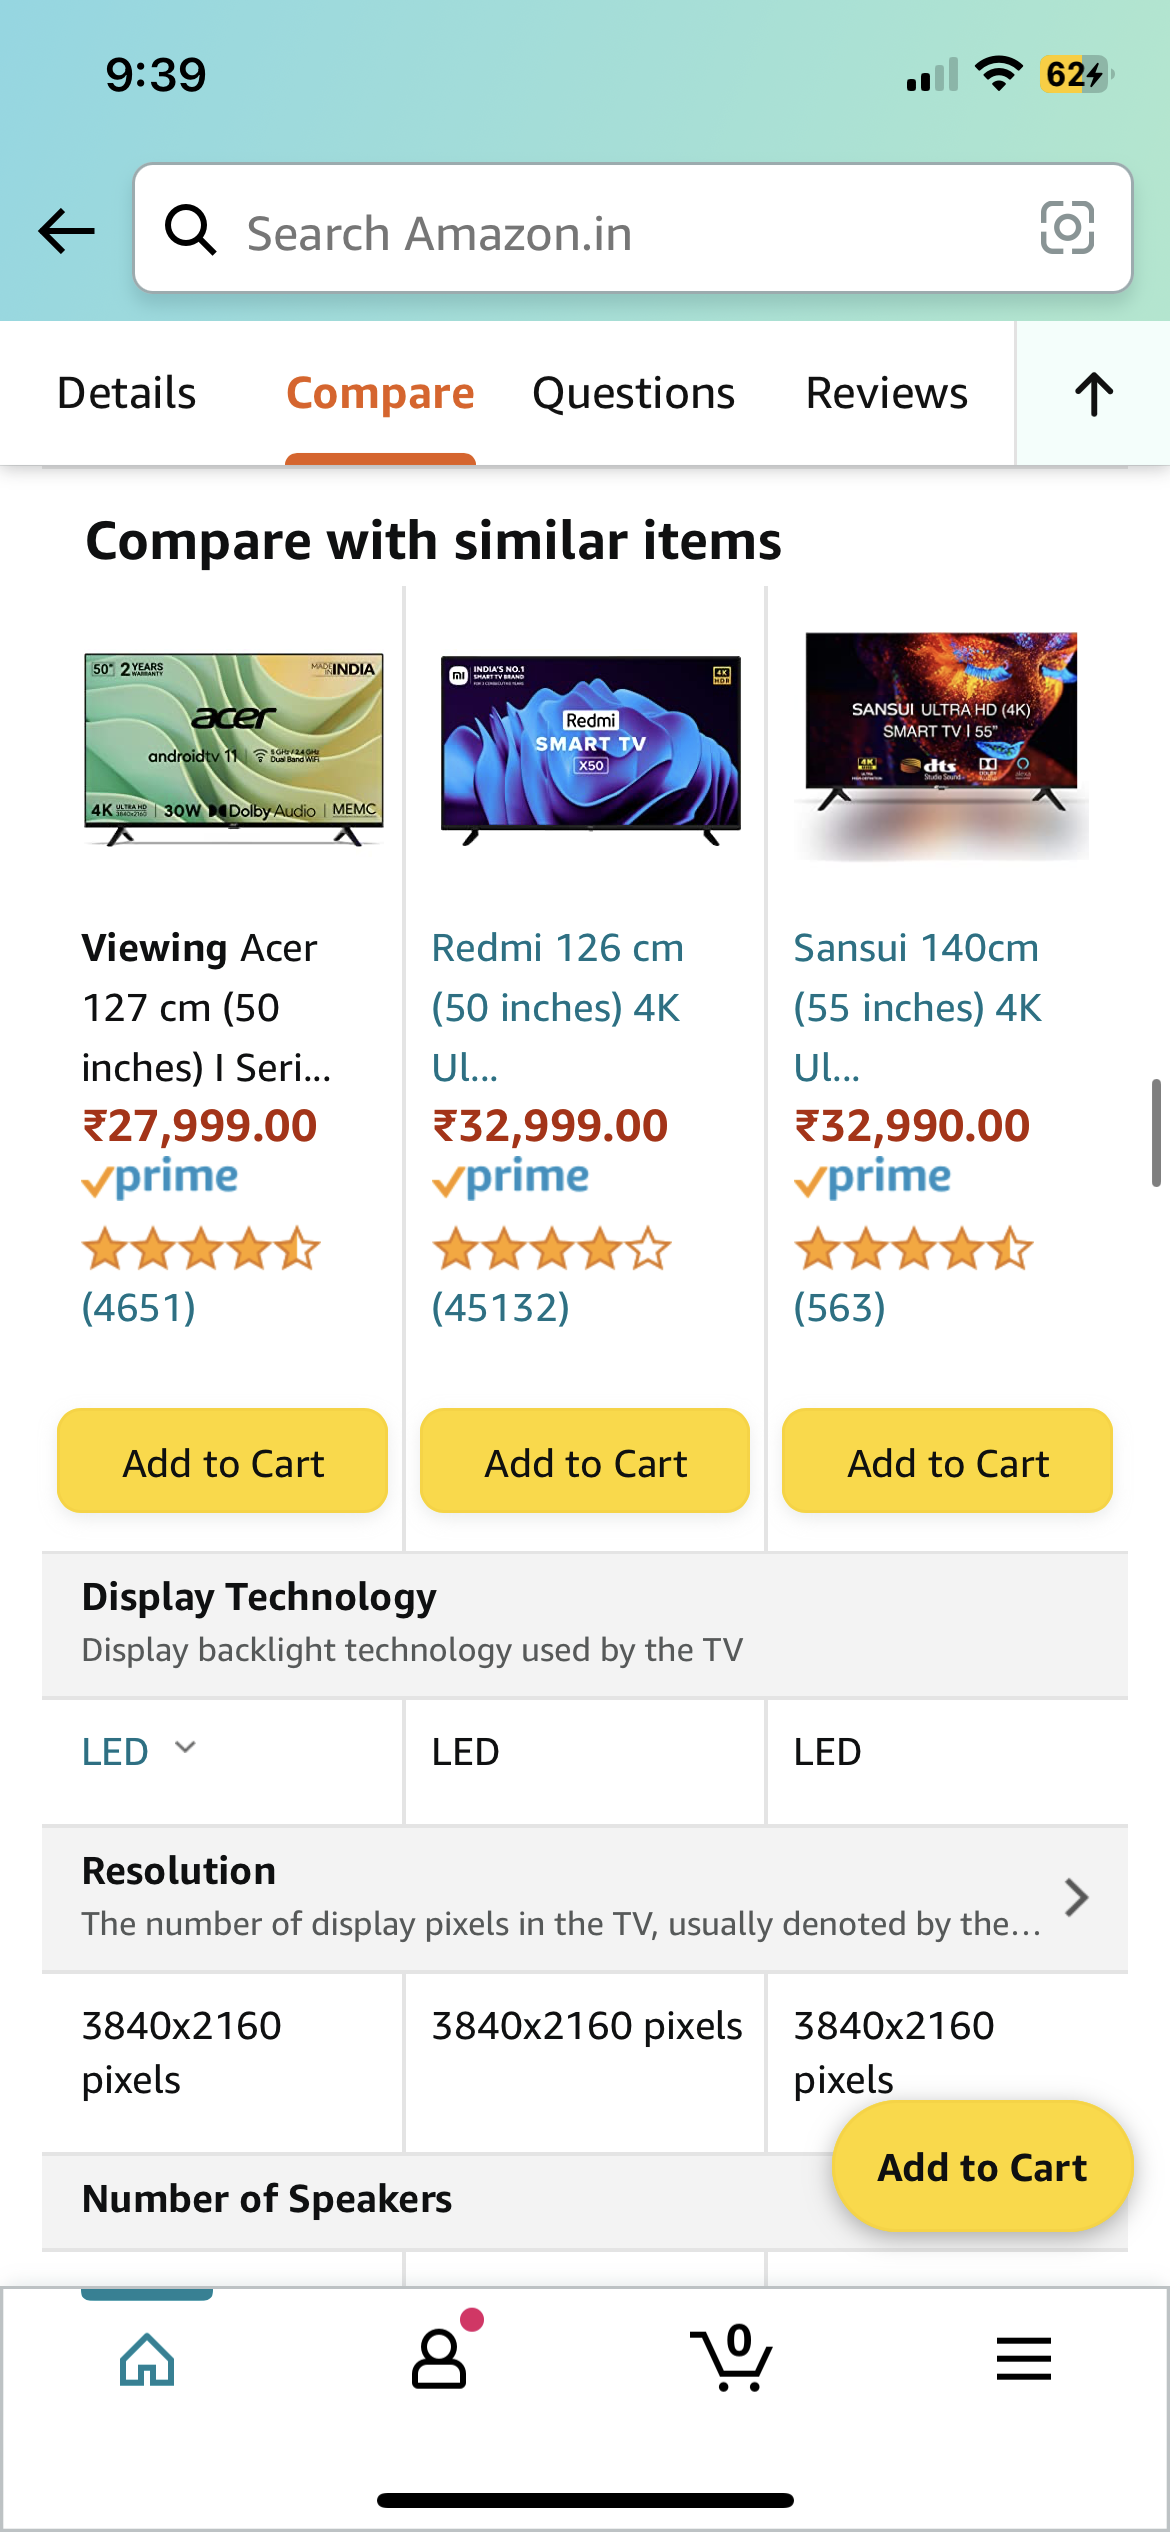LEDTV: (69, 639, 387, 854), (429, 644, 747, 857), (796, 625, 1096, 833)
